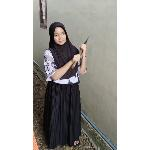Kapak: (68, 33, 92, 73)
